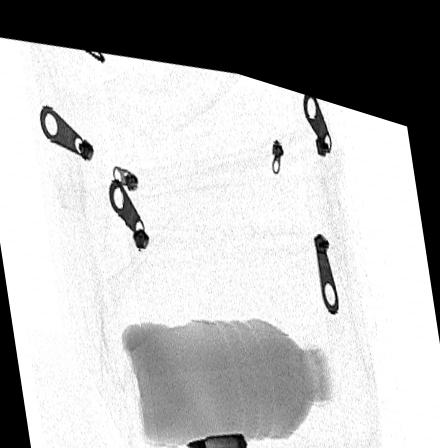Bullet: (186, 416, 248, 441)
